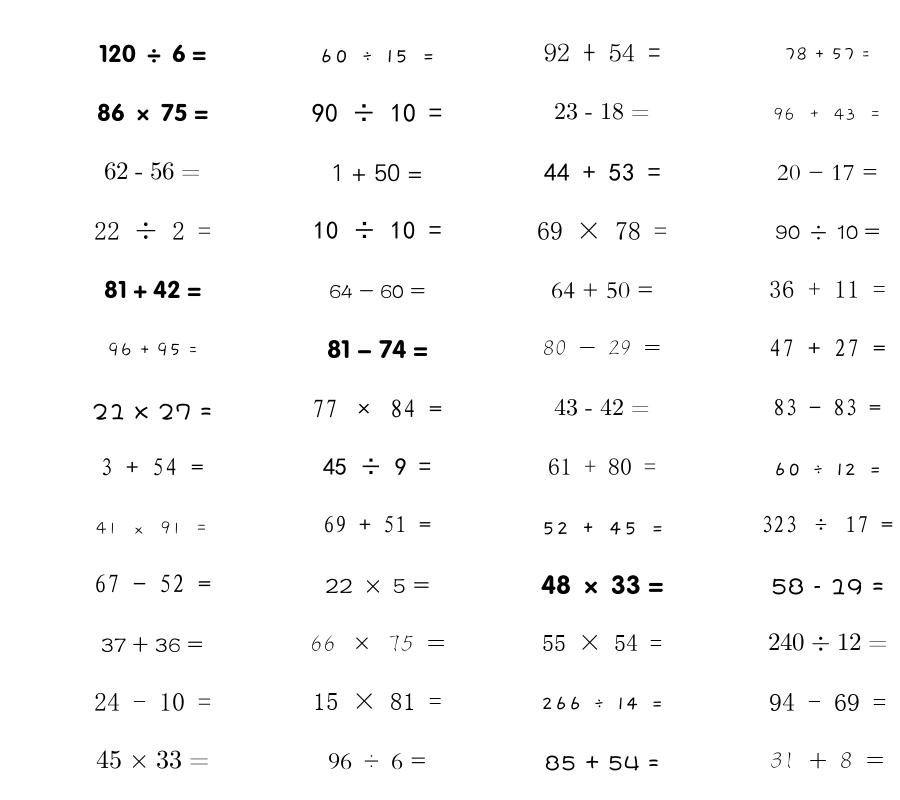MQ: (312, 103, 442, 123), (312, 399, 442, 418), (541, 575, 664, 595), (313, 221, 442, 240), (761, 515, 893, 533), (537, 222, 667, 240), (310, 635, 445, 652), (544, 43, 661, 62), (94, 574, 211, 593), (94, 692, 211, 711), (313, 693, 442, 710), (96, 750, 209, 769), (768, 633, 887, 651), (97, 103, 208, 122), (544, 163, 661, 181), (94, 222, 211, 240), (769, 280, 886, 298), (769, 339, 886, 357), (769, 693, 886, 711), (92, 403, 212, 420), (542, 634, 662, 651), (99, 44, 206, 63), (327, 339, 428, 359), (773, 398, 881, 416), (323, 515, 431, 533), (770, 752, 884, 769), (771, 578, 884, 595), (100, 458, 204, 476), (104, 280, 201, 299), (323, 458, 431, 475), (548, 458, 656, 475), (545, 755, 659, 771), (543, 340, 661, 355), (551, 282, 654, 299), (101, 636, 203, 653), (554, 102, 650, 120), (104, 162, 200, 180), (554, 398, 650, 416), (541, 521, 664, 535), (541, 696, 664, 710), (777, 164, 878, 181), (328, 753, 427, 770), (331, 164, 423, 182), (319, 49, 435, 63), (775, 225, 880, 240), (325, 578, 430, 593), (96, 521, 208, 535), (773, 107, 882, 121), (773, 462, 882, 476), (329, 284, 425, 299), (107, 342, 198, 357), (784, 47, 871, 61)
